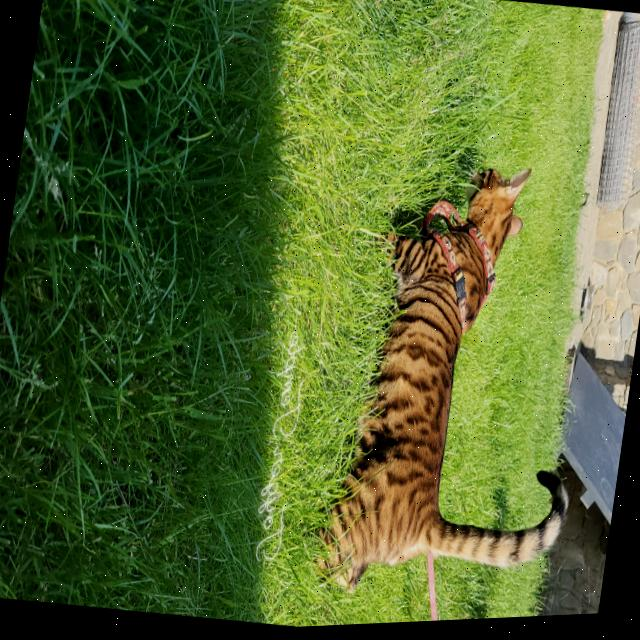Toyger: (293, 135, 619, 630)
